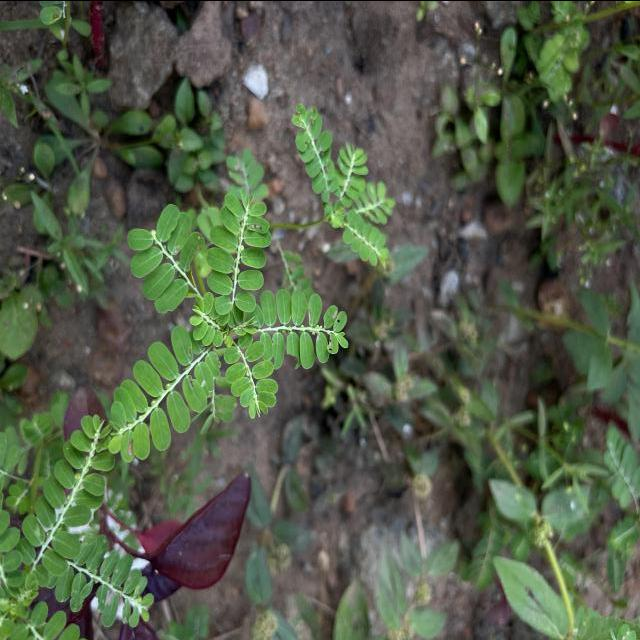Phyllanthus niruri: (15, 409, 112, 582), (105, 323, 222, 462), (126, 191, 206, 317), (208, 181, 273, 316), (255, 284, 352, 370), (226, 330, 282, 420)
